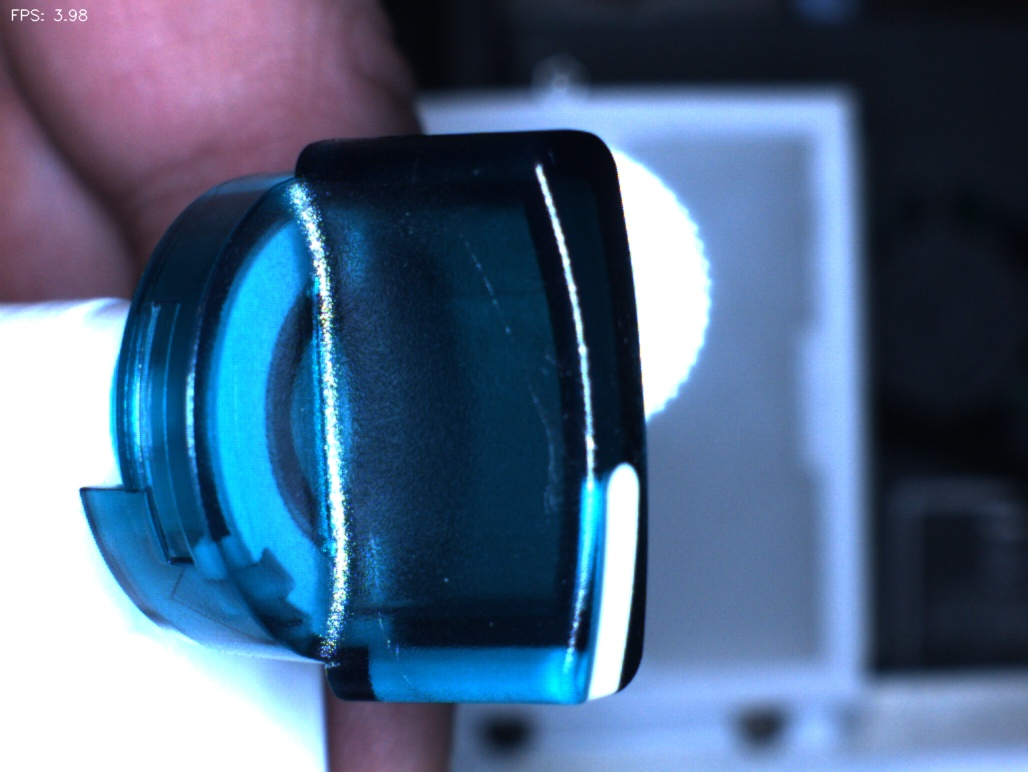Givrage: (457, 248, 582, 509)
